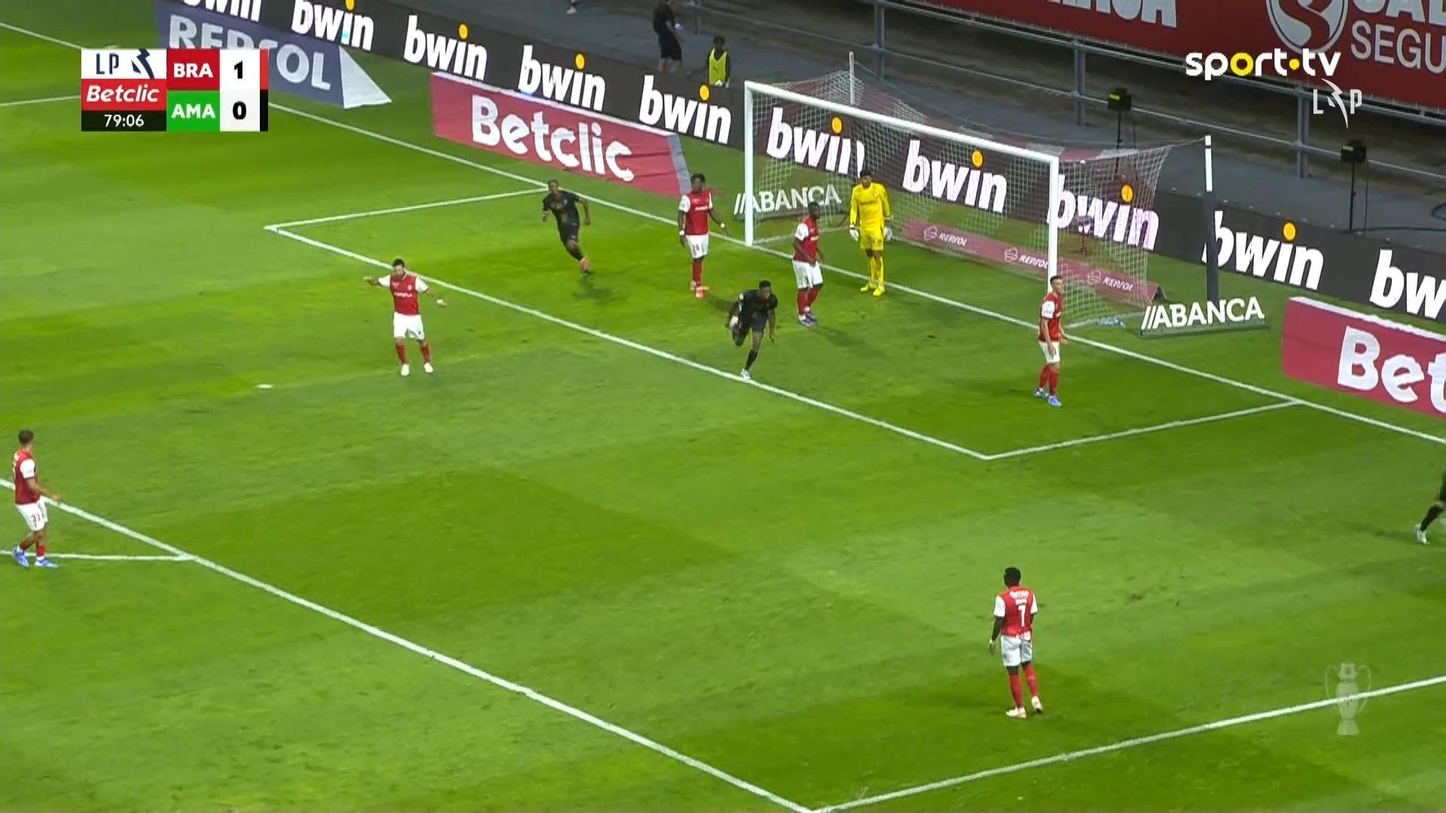goalkeeper: (847, 167, 892, 297)
player: (362, 257, 446, 376), (987, 565, 1043, 719), (11, 428, 61, 568), (676, 172, 727, 297), (725, 279, 778, 380), (540, 178, 593, 276), (1033, 274, 1068, 406), (790, 201, 825, 327), (1413, 470, 1444, 545)
